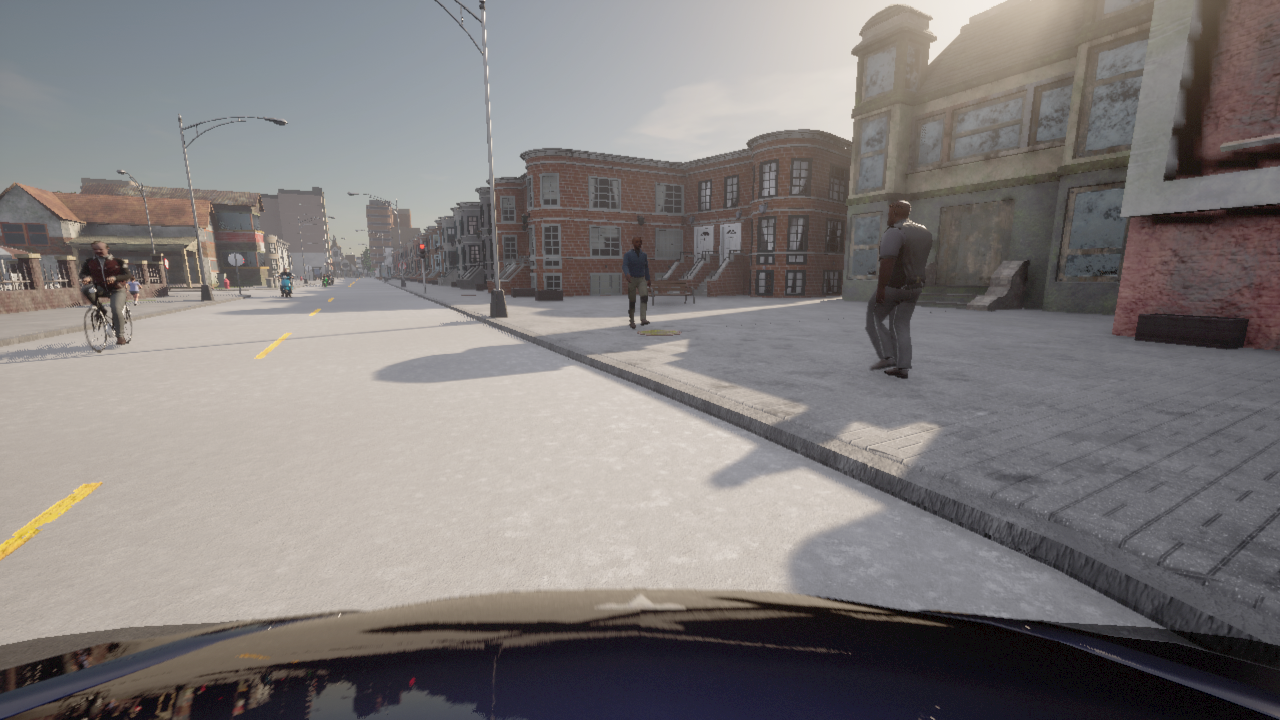cyclist: (0, 588, 1279, 719), (82, 280, 132, 351), (276, 274, 294, 296), (322, 277, 327, 285), (330, 276, 333, 284), (328, 278, 330, 284)
pedestrian: (866, 199, 932, 378), (622, 236, 650, 327), (125, 276, 141, 305)
